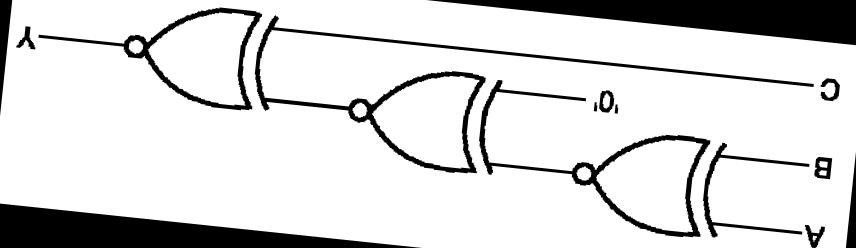xnor: (322, 48, 540, 192), (544, 112, 755, 248), (100, 0, 312, 129)
